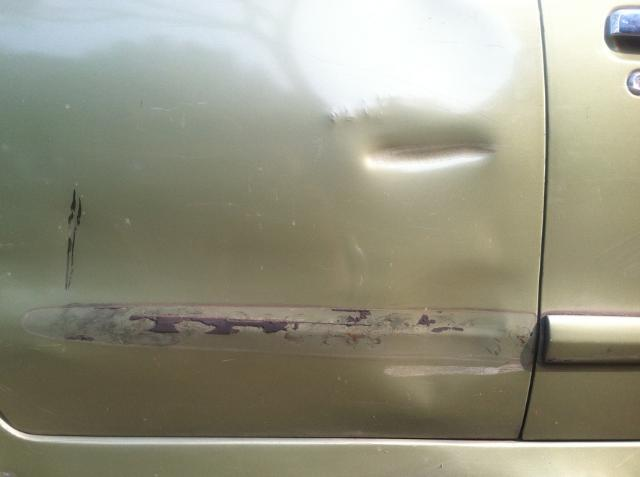Door: (7, 78, 543, 438)
